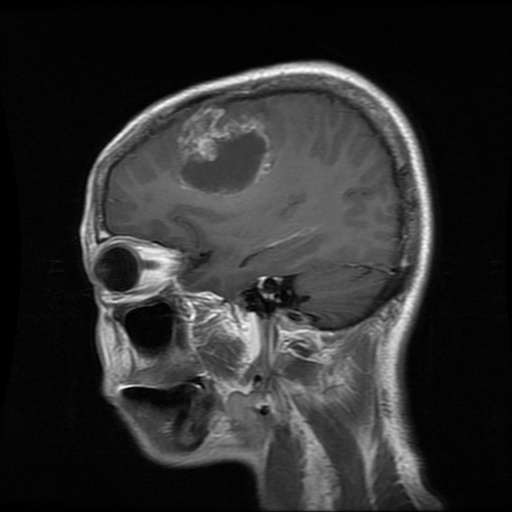glioma: (179, 109, 268, 194)
